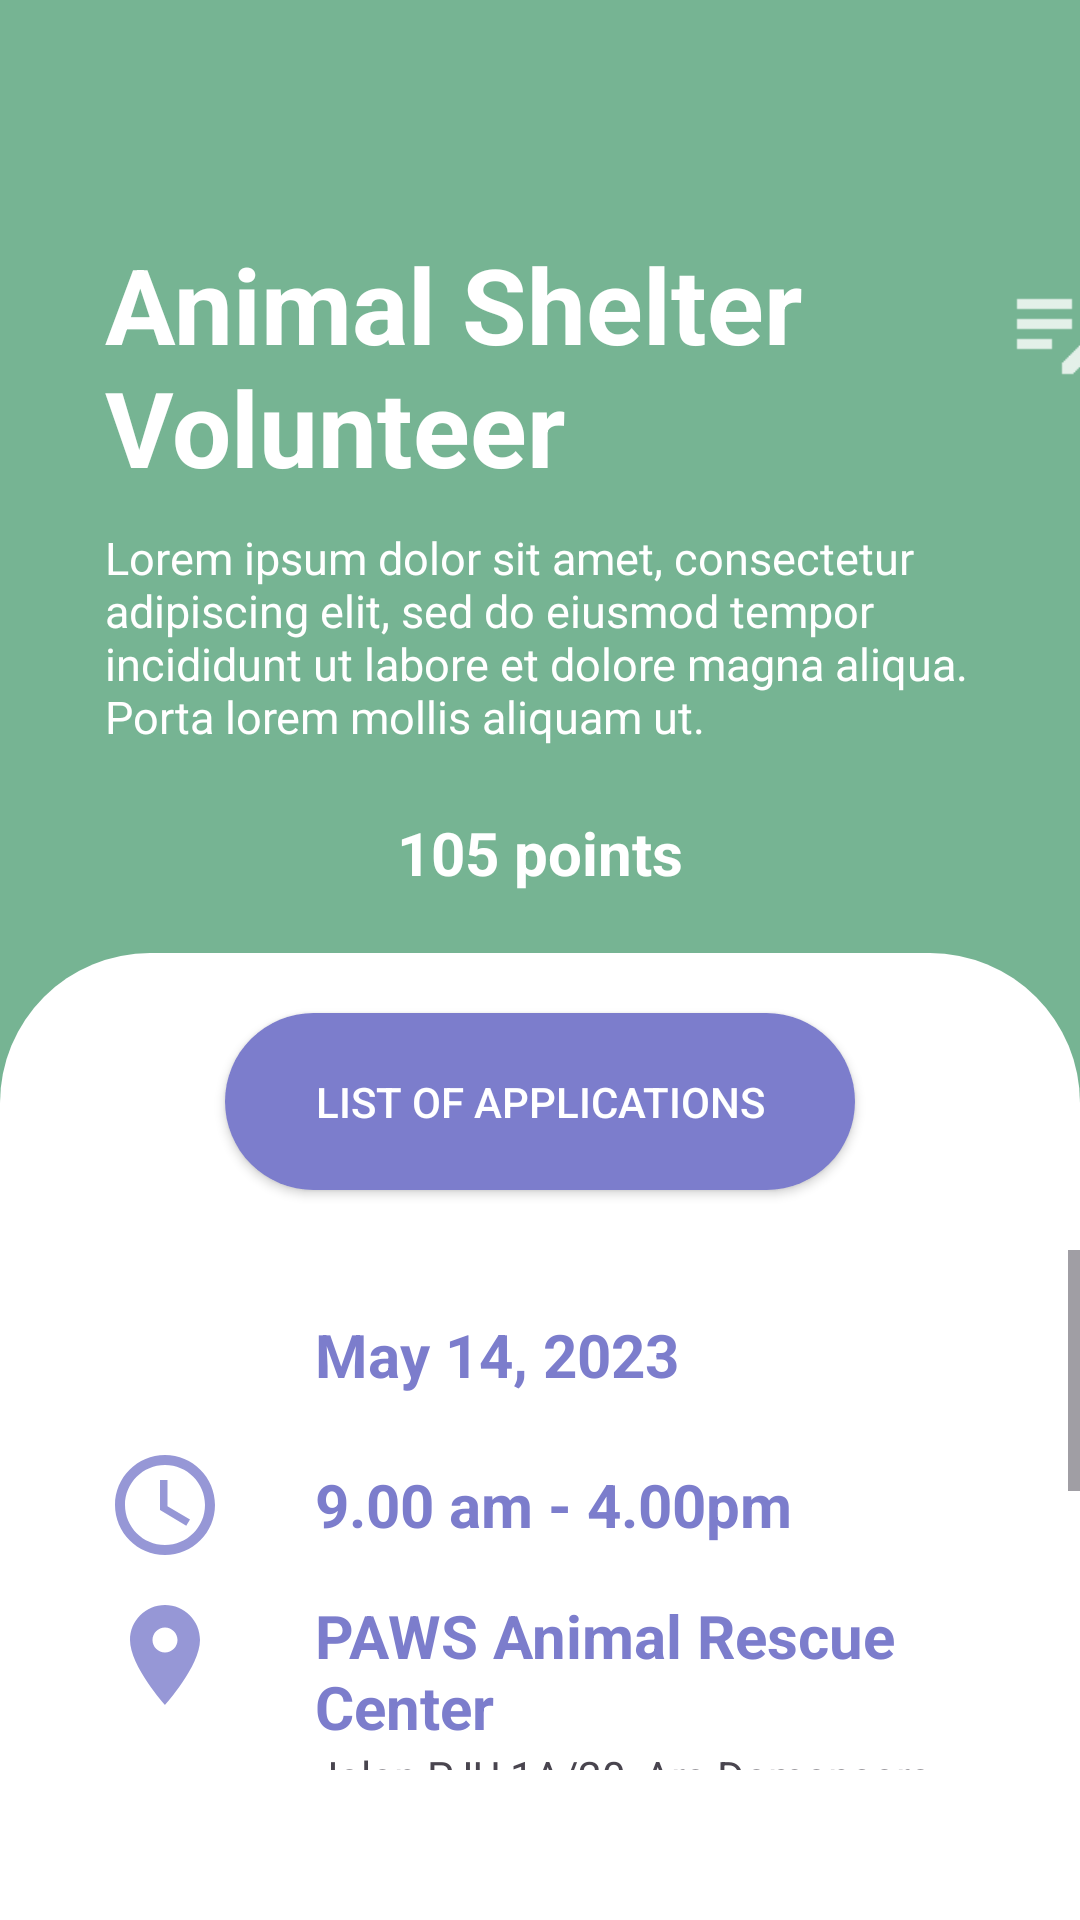

Point at icon controls on the screen. Image size 1080px x 1920px, points as point (x, y).
editactivity: point (1048, 336)
location: point (165, 1655)
time: point (165, 1505)
